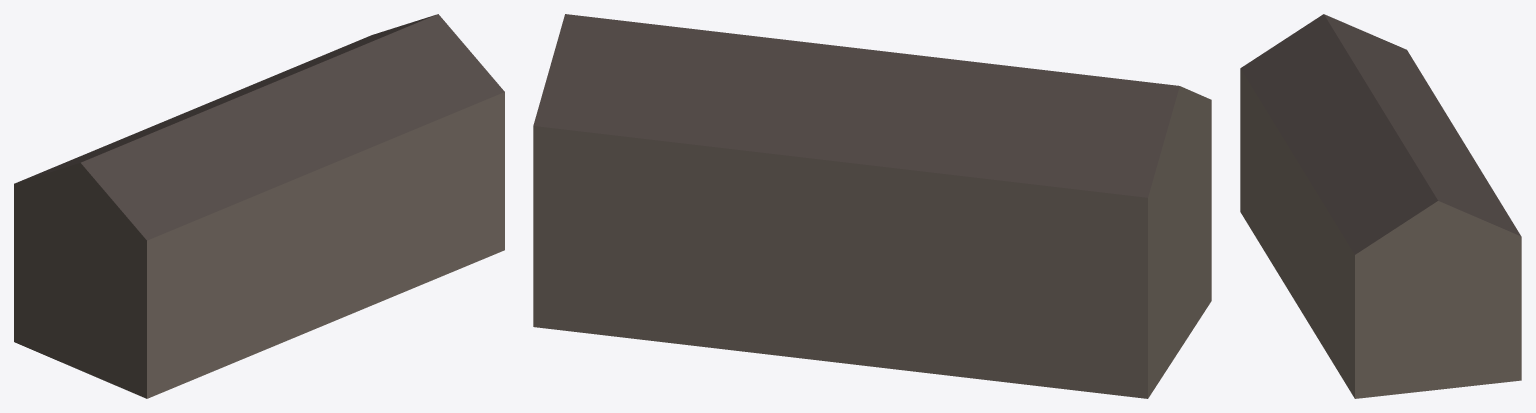
3 views of the same model, side by side, from view 1: azimuth 30°, elevation 25°; view 2: azimuth 150°, elevation 25°; view 3: azimuth 270°, elevation 25° (orthographic). The views are drawn at different scales.
Parts seen in each view (by area): view 1: HP-w859424211; view 2: HP-w859424211; view 3: HP-w859424211.
Boxes of the visible parts, x1,y1,x2,y2 form: HP-w859424211: (14, 14, 504, 398); HP-w859424211: (533, 14, 1211, 398); HP-w859424211: (1240, 14, 1521, 398).
Size of the model in its own units: 27.51 by 11.82 by 15.92.
